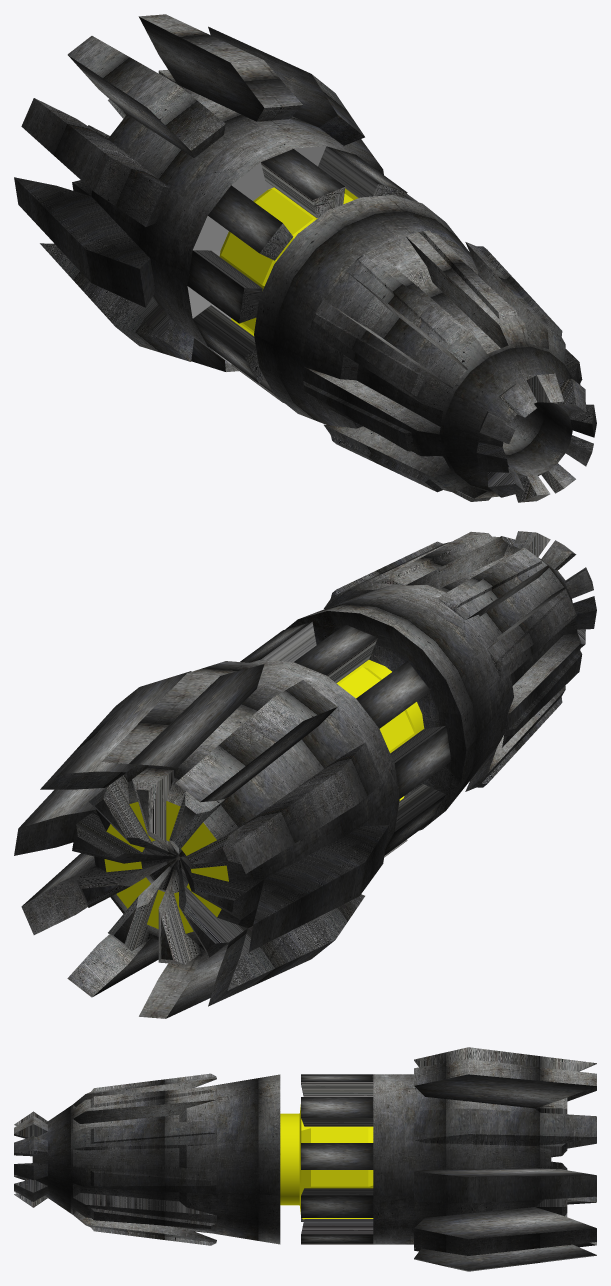
Rendered from missile2.fbx.
3 renders of one model, top to bottom at view 1: azimuth 30°, elevation 25°; view 2: azimuth 150°, elevation 25°; view 3: azimuth 270°, elevation 25°, orthographic. The views are drawn at different scales.
Parts seen in each view (by area): view 1: pPipe1; view 2: pPipe1; view 3: pPipe1.
Part boxes in pixels (left/top/right/bottom): pPipe1: left=14, top=14, right=596, bottom=502; pPipe1: left=14, top=531, right=596, bottom=1018; pPipe1: left=14, top=1047, right=596, bottom=1271.
Bounding box in the file's own units: 2.63 × 2.63 × 6.8.
3 materials, 1 textured.
